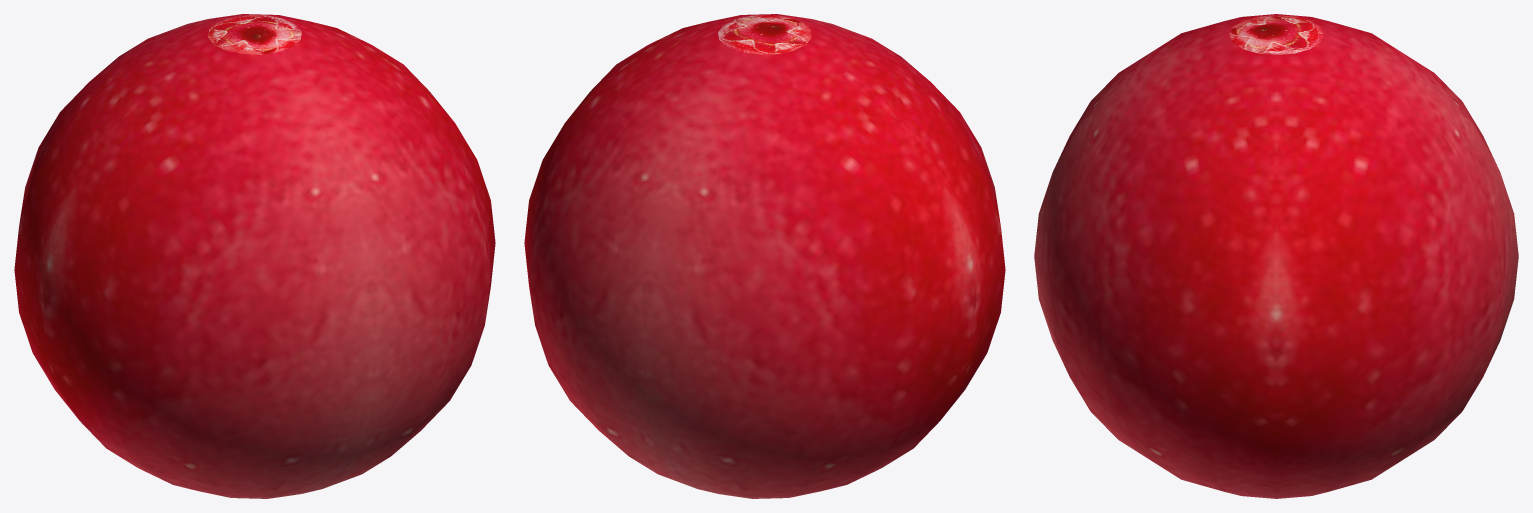
The model's file is cranberry.fbx.
The picture shows the model from 3 angles, left to right: view 1: azimuth 30°, elevation 25°; view 2: azimuth 150°, elevation 25°; view 3: azimuth 270°, elevation 25°; orthographic projection.
Parts seen in each view (by area): view 1: cranberry; view 2: cranberry; view 3: cranberry.
Boxes of the visible parts, x1,y1,x2,y2 form: cranberry: (14, 14, 495, 498); cranberry: (524, 14, 1005, 498); cranberry: (1034, 14, 1518, 498).
Size of the model in its own units: 0.0806 by 0.082 by 0.0806.
